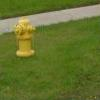Hydrant: (10, 7, 44, 63)
